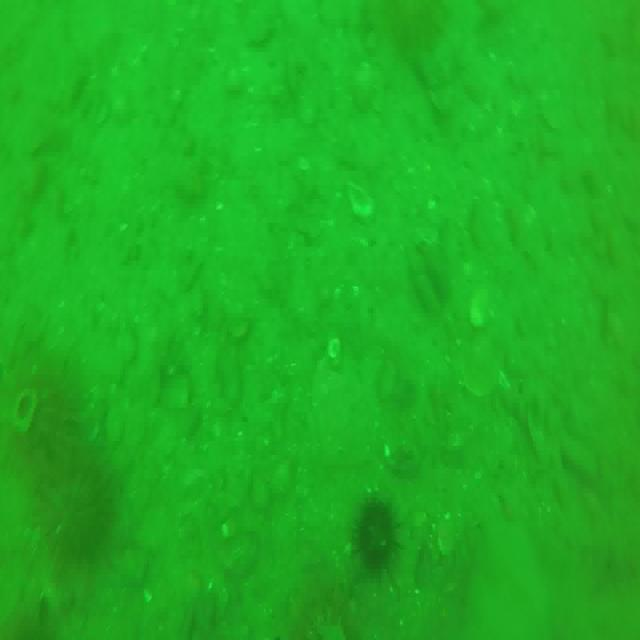echinus: (41, 453, 126, 585), (17, 364, 76, 459), (353, 496, 407, 590)
scallop: (9, 388, 37, 433), (347, 175, 372, 223), (470, 289, 486, 326)
